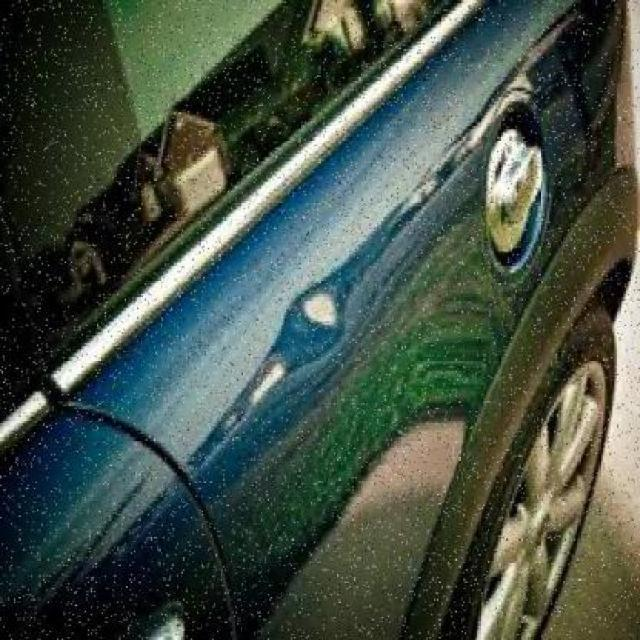quaterpanel-dent: (235, 116, 633, 637)
